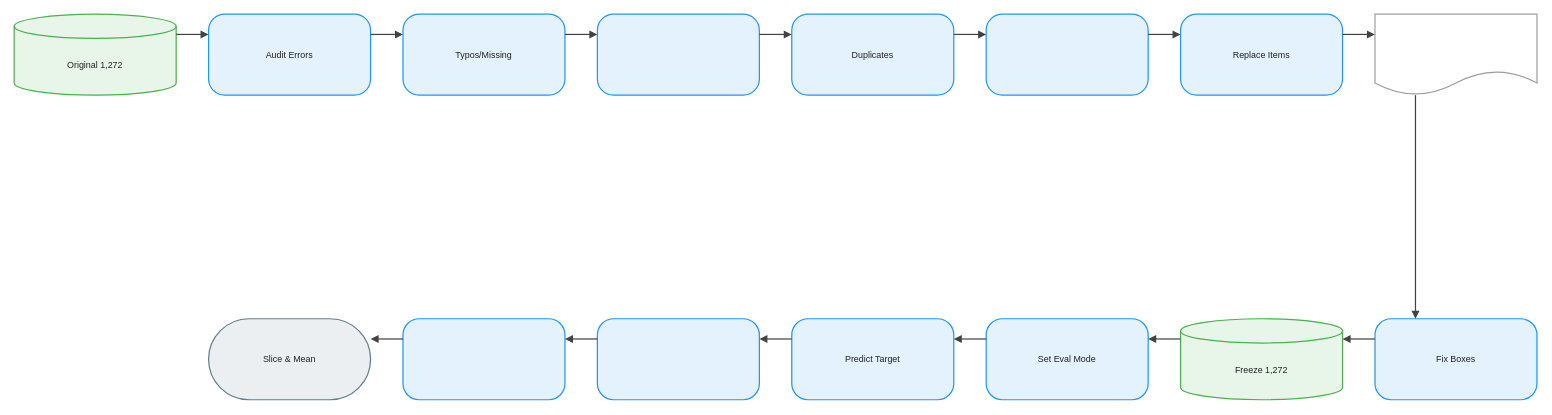
Some shapes in this 1552 by 415 pixel diagram are drawn without their labels. The shapes that lost their labels are listed below. From the top down, each one's centre as x and y in pixels, then its label:
At pixel 678 54: "Ambiguity".
At pixel 1066 54: "Bad Boxes".
At pixel 1455 54: "Rewrite REG".
At pixel 483 359: "Box IoU".
At pixel 678 359: "Grounding Acc".
